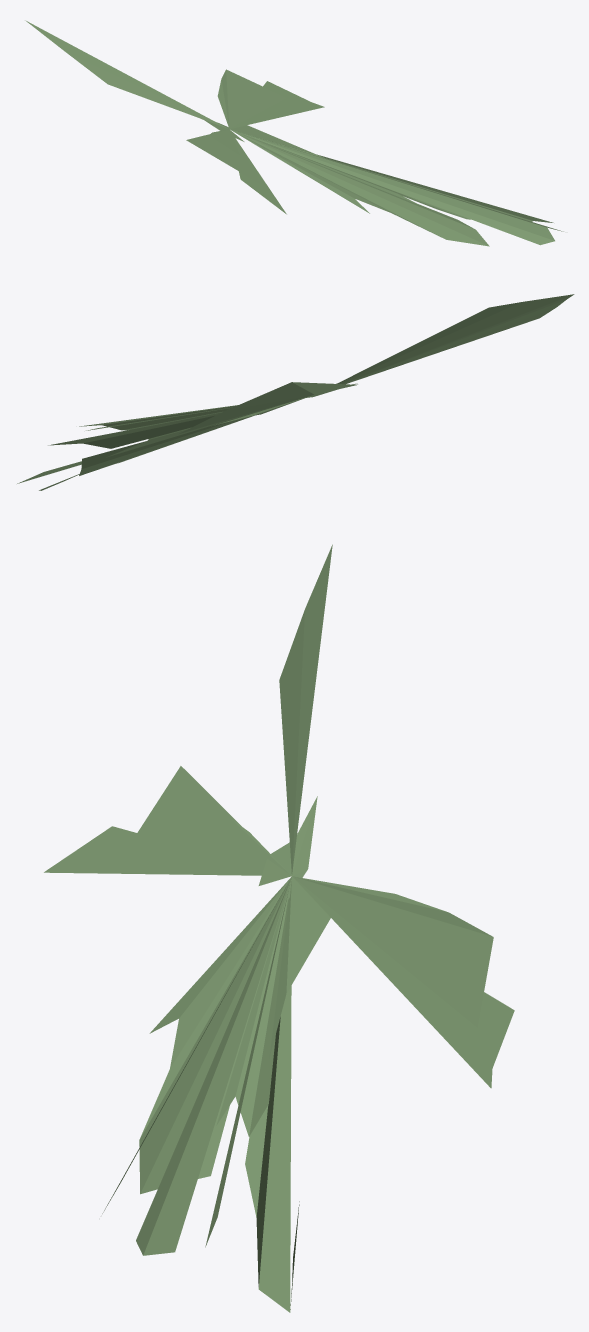
The model's file is c_1665_17818_parks.glb.
The picture shows the model from 3 angles, top to bottom: view 1: azimuth 30°, elevation 25°; view 2: azimuth 150°, elevation 25°; view 3: azimuth 270°, elevation 25°; orthographic projection. The views are drawn at different scales.
Parts seen in each view (by area): view 1: geometry_0; view 2: geometry_0; view 3: geometry_0.
Part boxes in pixels (x1=…): geometry_0: x1=25, y1=20, x2=563, y2=246; geometry_0: x1=17, y1=294, x2=574, y2=490; geometry_0: x1=44, y1=544, x2=514, y2=1312.
Size of the model in its own units: 321 by 174 by 203.
